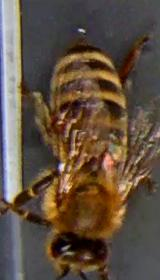varroa_mite: (50, 106, 74, 137)
